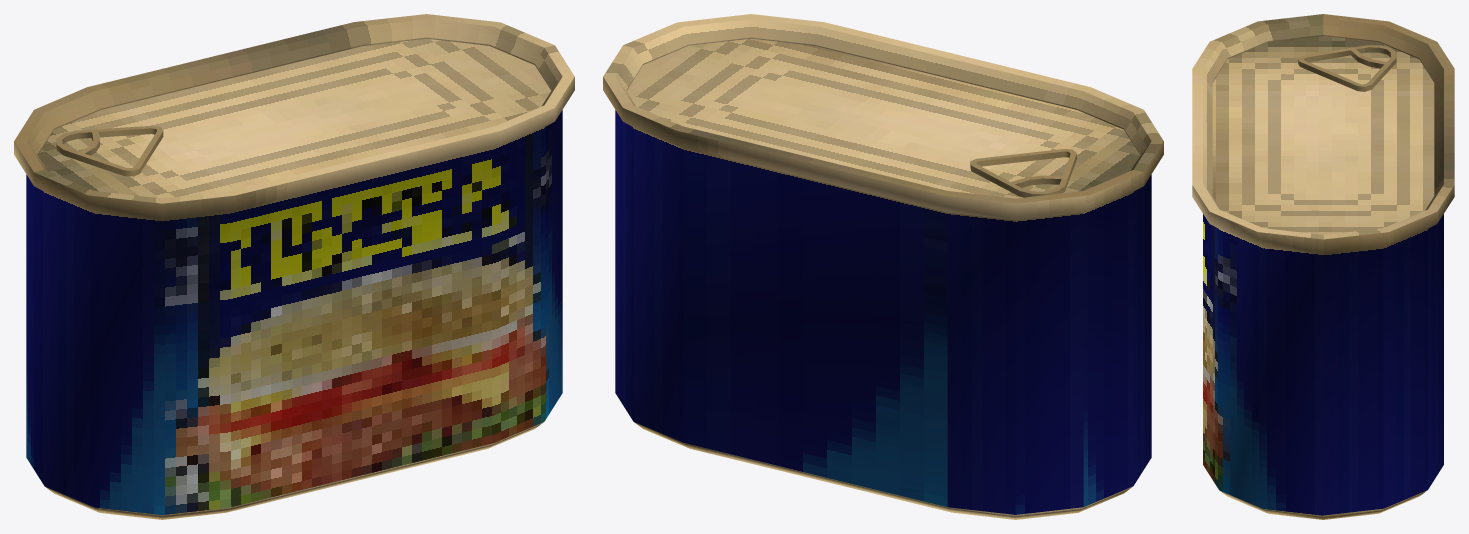
Rendered from can_spam.obj.
3 views of the same model, side by side, from view 1: azimuth 30°, elevation 25°; view 2: azimuth 150°, elevation 25°; view 3: azimuth 270°, elevation 25° (orthographic). The views are drawn at different scales.
Visible parts, largest first — view 1: can_spam; view 2: can_spam; view 3: can_spam.
Part boxes in pixels (x1,y1,x2,y2): can_spam: (14,14,574,519); can_spam: (603,14,1163,519); can_spam: (1192,14,1454,519).
Bounding box in the file's own units: 0.5461 × 0.3265 × 0.2688.
